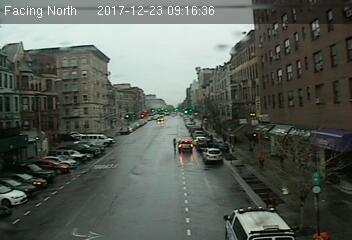car: (203, 146, 222, 161), (177, 139, 194, 153)
police: (222, 208, 297, 240)
